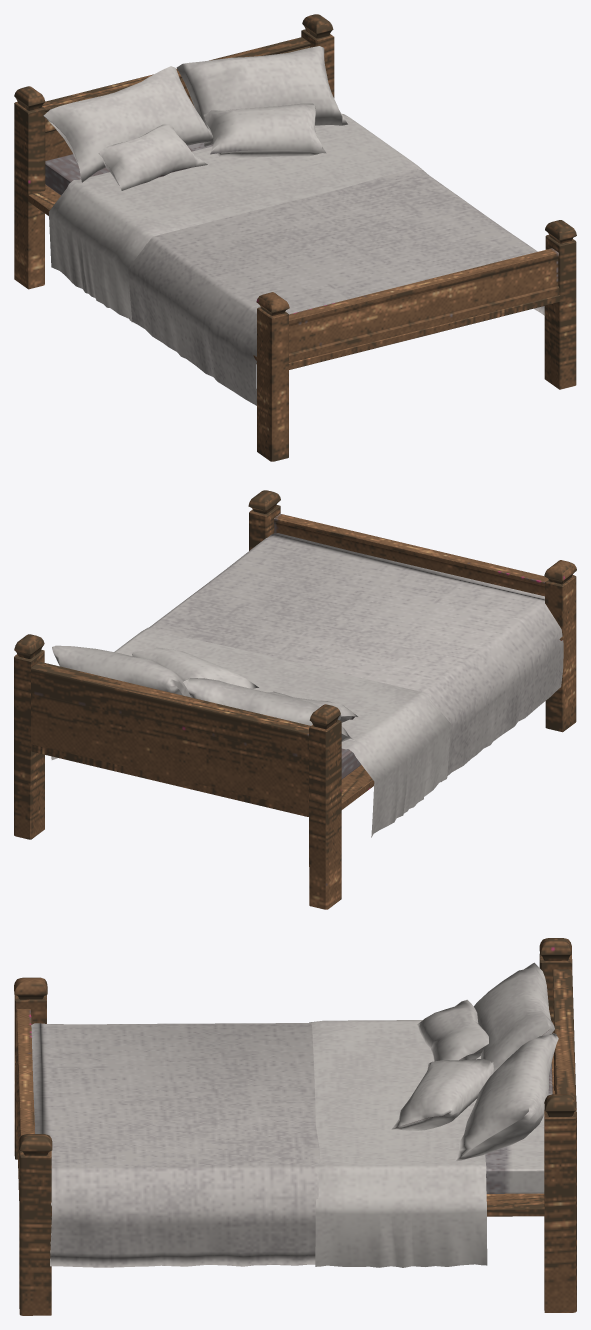
Rendered from bed.fbx.
3 views of the same model, one above another, from view 1: azimuth 30°, elevation 25°; view 2: azimuth 150°, elevation 25°; view 3: azimuth 270°, elevation 25° (orthographic). The views are drawn at different scales.
Parts seen in each view (by area): view 1: BedSheets_OBJ:BlanketTop_OBJ, bedframe_OBJ, BedSheets_OBJ:BlanketBottom_OBJ, polySurface3, polySurface4, polySurface5, polySurface2, BedSheets_OBJ:Mattress_OBJ; view 2: bedframe_OBJ, BedSheets_OBJ:BlanketTop_OBJ, BedSheets_OBJ:BlanketBottom_OBJ, polySurface4, polySurface3, polySurface5; view 3: BedSheets_OBJ:BlanketTop_OBJ, BedSheets_OBJ:BlanketBottom_OBJ, bedframe_OBJ, polySurface4, polySurface3, polySurface5, BedSheets_OBJ:Mattress_OBJ, polySurface2.
Part boxes in pixels (x1,y1,x2,y2): BedSheets_OBJ:BlanketTop_OBJ: (128,168,544,405); bedframe_OBJ: (14,14,576,461); BedSheets_OBJ:BlanketBottom_OBJ: (49,114,426,322); polySurface3: (43,66,213,182); polySurface4: (176,46,347,146); polySurface5: (203,103,326,157); polySurface2: (98,124,207,190); BedSheets_OBJ:Mattress_OBJ: (45,142,212,195); bedframe_OBJ: (14,490,576,909); BedSheets_OBJ:BlanketTop_OBJ: (149,533,563,781); BedSheets_OBJ:BlanketBottom_OBJ: (51,627,450,837); polySurface4: (52,645,191,697); polySurface3: (183,678,355,741); polySurface5: (132,647,258,688); BedSheets_OBJ:BlanketTop_OBJ: (31,1023,320,1267); BedSheets_OBJ:BlanketBottom_OBJ: (309,1020,487,1267); bedframe_OBJ: (14,938,576,1315); polySurface4: (455,1033,558,1161); polySurface3: (474,962,554,1071); polySurface5: (392,1059,494,1130); BedSheets_OBJ:Mattress_OBJ: (485,1063,552,1193); polySurface2: (417,999,488,1061).
Size of the model in its own units: 2.34 by 1.32 by 3.17.
Materials: 2 (2 with a texture image).
